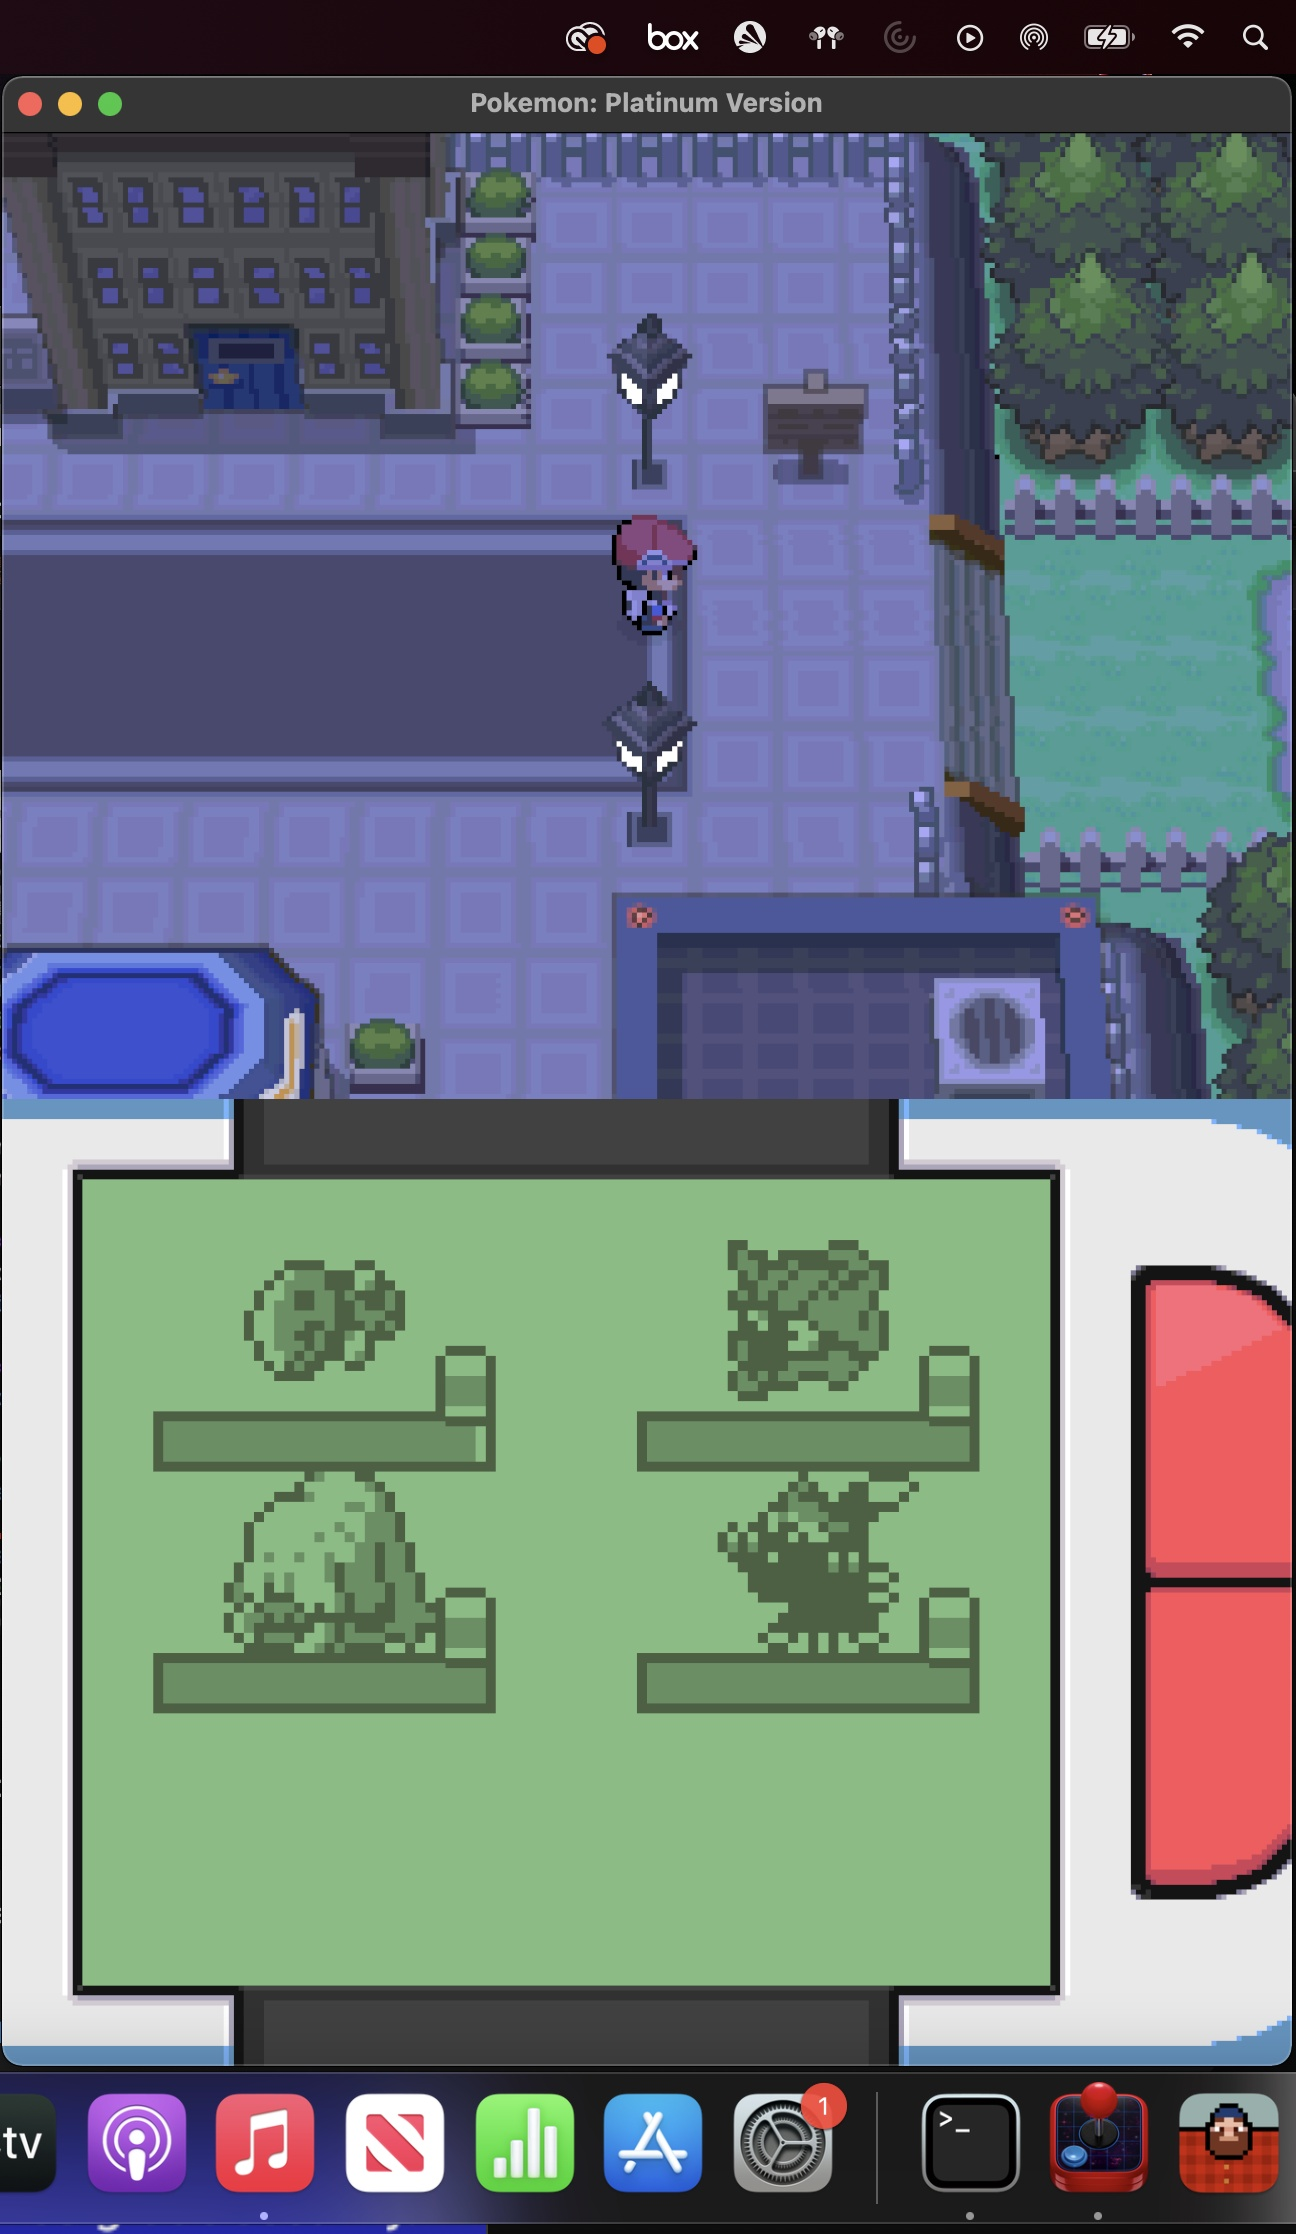player: (603, 514, 700, 641)
turn left: (600, 312, 874, 491)
